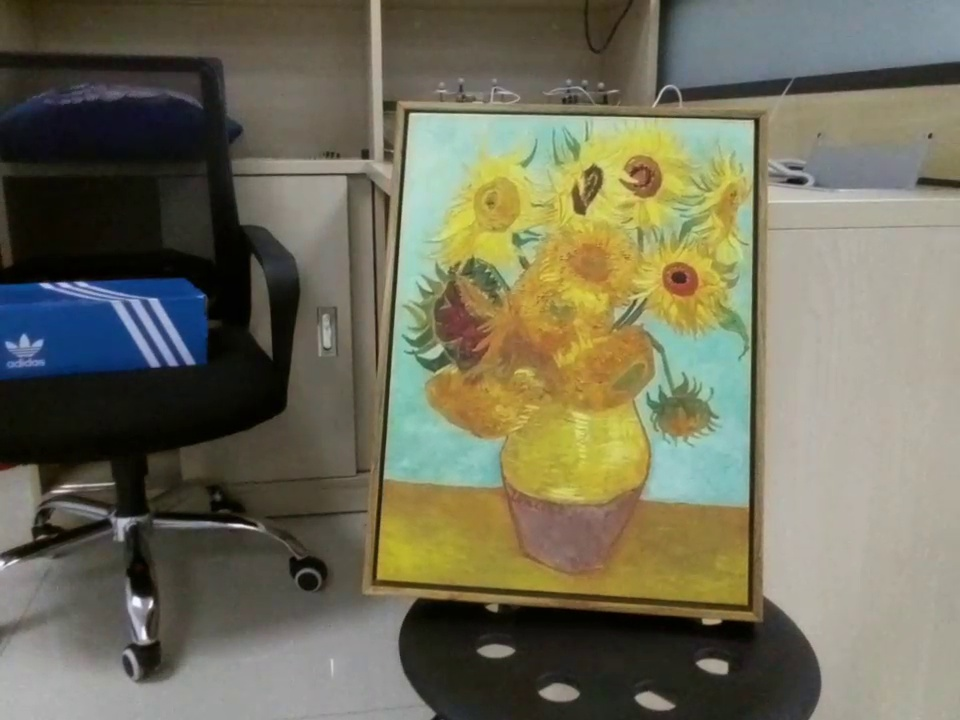painting: (379, 104, 773, 622)
